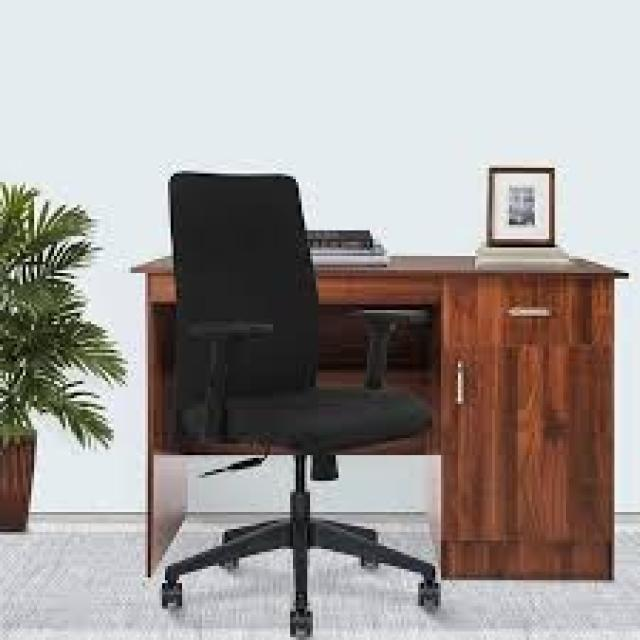chair: (117, 120, 468, 640)
